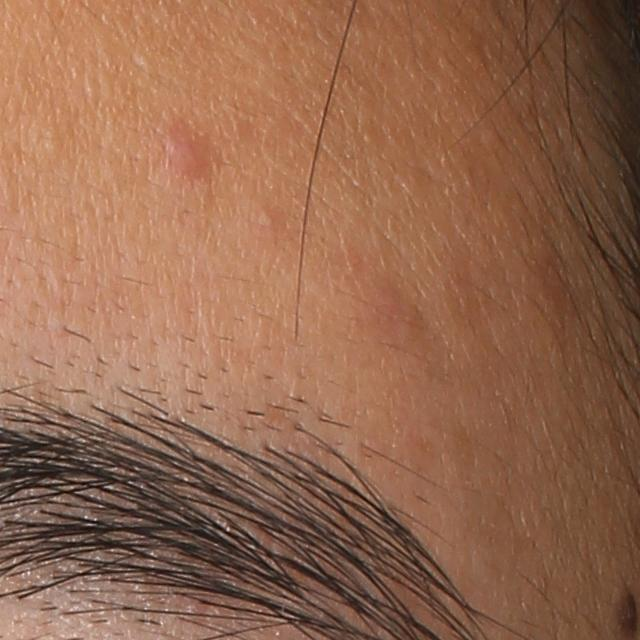comedo: (258, 208, 279, 232)
papule: (164, 127, 217, 186)
